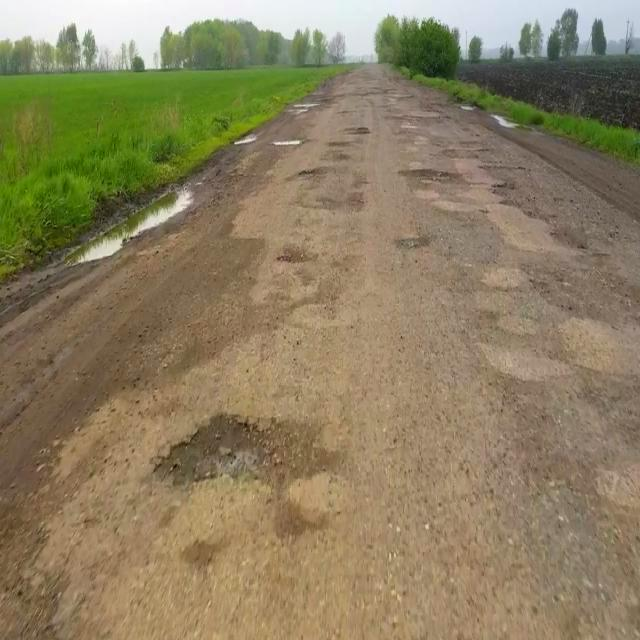Pothole: (152, 404, 345, 496), (77, 173, 201, 270), (379, 165, 465, 217), (232, 122, 309, 154)
